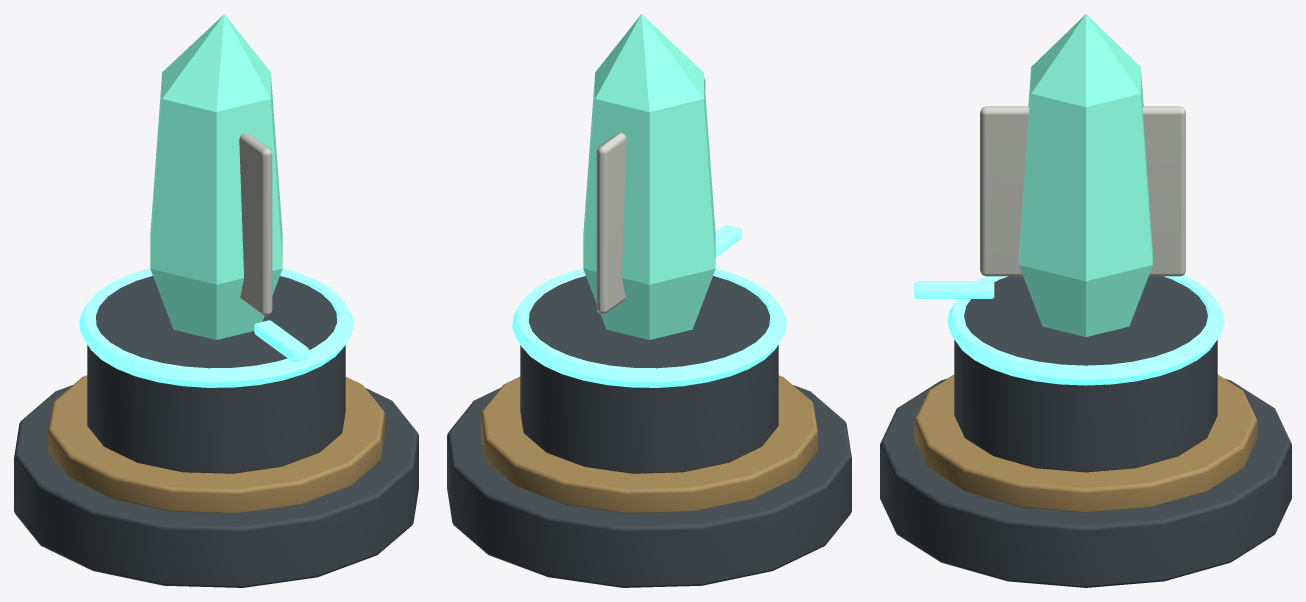
The model's file is prism.glb.
3 renders of one model, left to right at view 1: azimuth 30°, elevation 25°; view 2: azimuth 150°, elevation 25°; view 3: azimuth 270°, elevation 25°, orthographic.
Parts seen in each view (by area): view 1: Broad machine base, Rotating pedestal, Prism, Brass base rim, Pedestal halo, Optical mirror, Direction marker; view 2: Broad machine base, Rotating pedestal, Prism, Brass base rim, Pedestal halo, Optical mirror, Direction marker; view 3: Broad machine base, Rotating pedestal, Prism, Brass base rim, Optical mirror, Pedestal halo, Direction marker.
Boxes of the visible parts, left/top/right/bottom form: Broad machine base: left=14, top=385, right=418, bottom=587; Rotating pedestal: left=87, top=276, right=345, bottom=473; Prism: left=150, top=14, right=282, bottom=339; Brass base rim: left=48, top=375, right=384, bottom=513; Pedestal halo: left=79, top=268, right=353, bottom=387; Optical mirror: left=239, top=132, right=272, bottom=315; Direction marker: left=254, top=320, right=308, bottom=361; Broad machine base: left=447, top=385, right=851, bottom=587; Rotating pedestal: left=520, top=276, right=778, bottom=473; Prism: left=583, top=14, right=715, bottom=339; Brass base rim: left=481, top=375, right=817, bottom=513; Pedestal halo: left=512, top=268, right=786, bottom=387; Optical mirror: left=596, top=79, right=705, bottom=313; Direction marker: left=715, top=225, right=741, bottom=257; Broad machine base: left=880, top=379, right=1291, bottom=587; Rotating pedestal: left=954, top=276, right=1217, bottom=472; Prism: left=1019, top=14, right=1152, bottom=336; Brass base rim: left=914, top=375, right=1257, bottom=512; Optical mirror: left=980, top=106, right=1185, bottom=276; Pedestal halo: left=947, top=275, right=1224, bottom=385; Direction marker: left=914, top=281, right=994, bottom=298.
Bounding box in the file's own units: 1.44 × 1.9 × 1.44.
